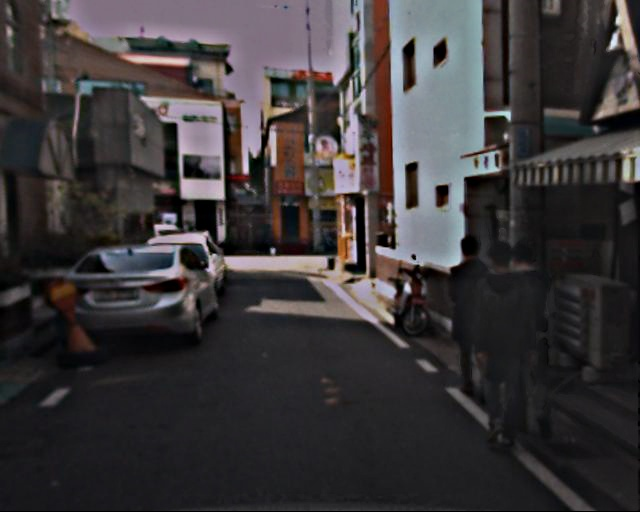person: (461, 242, 546, 450), (489, 246, 565, 432), (441, 235, 508, 399)
